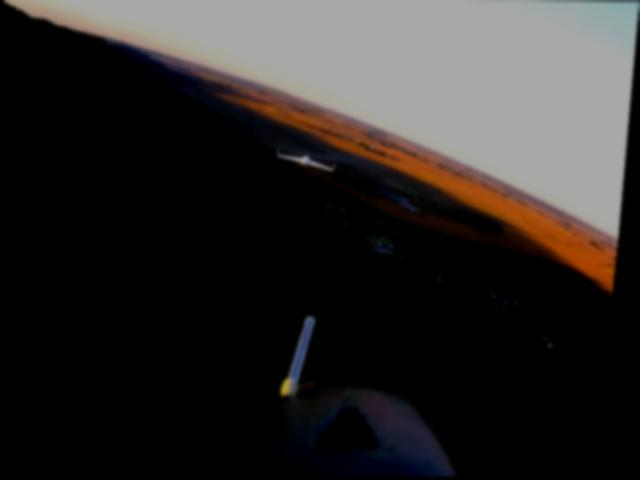plane: (278, 147, 342, 173)
